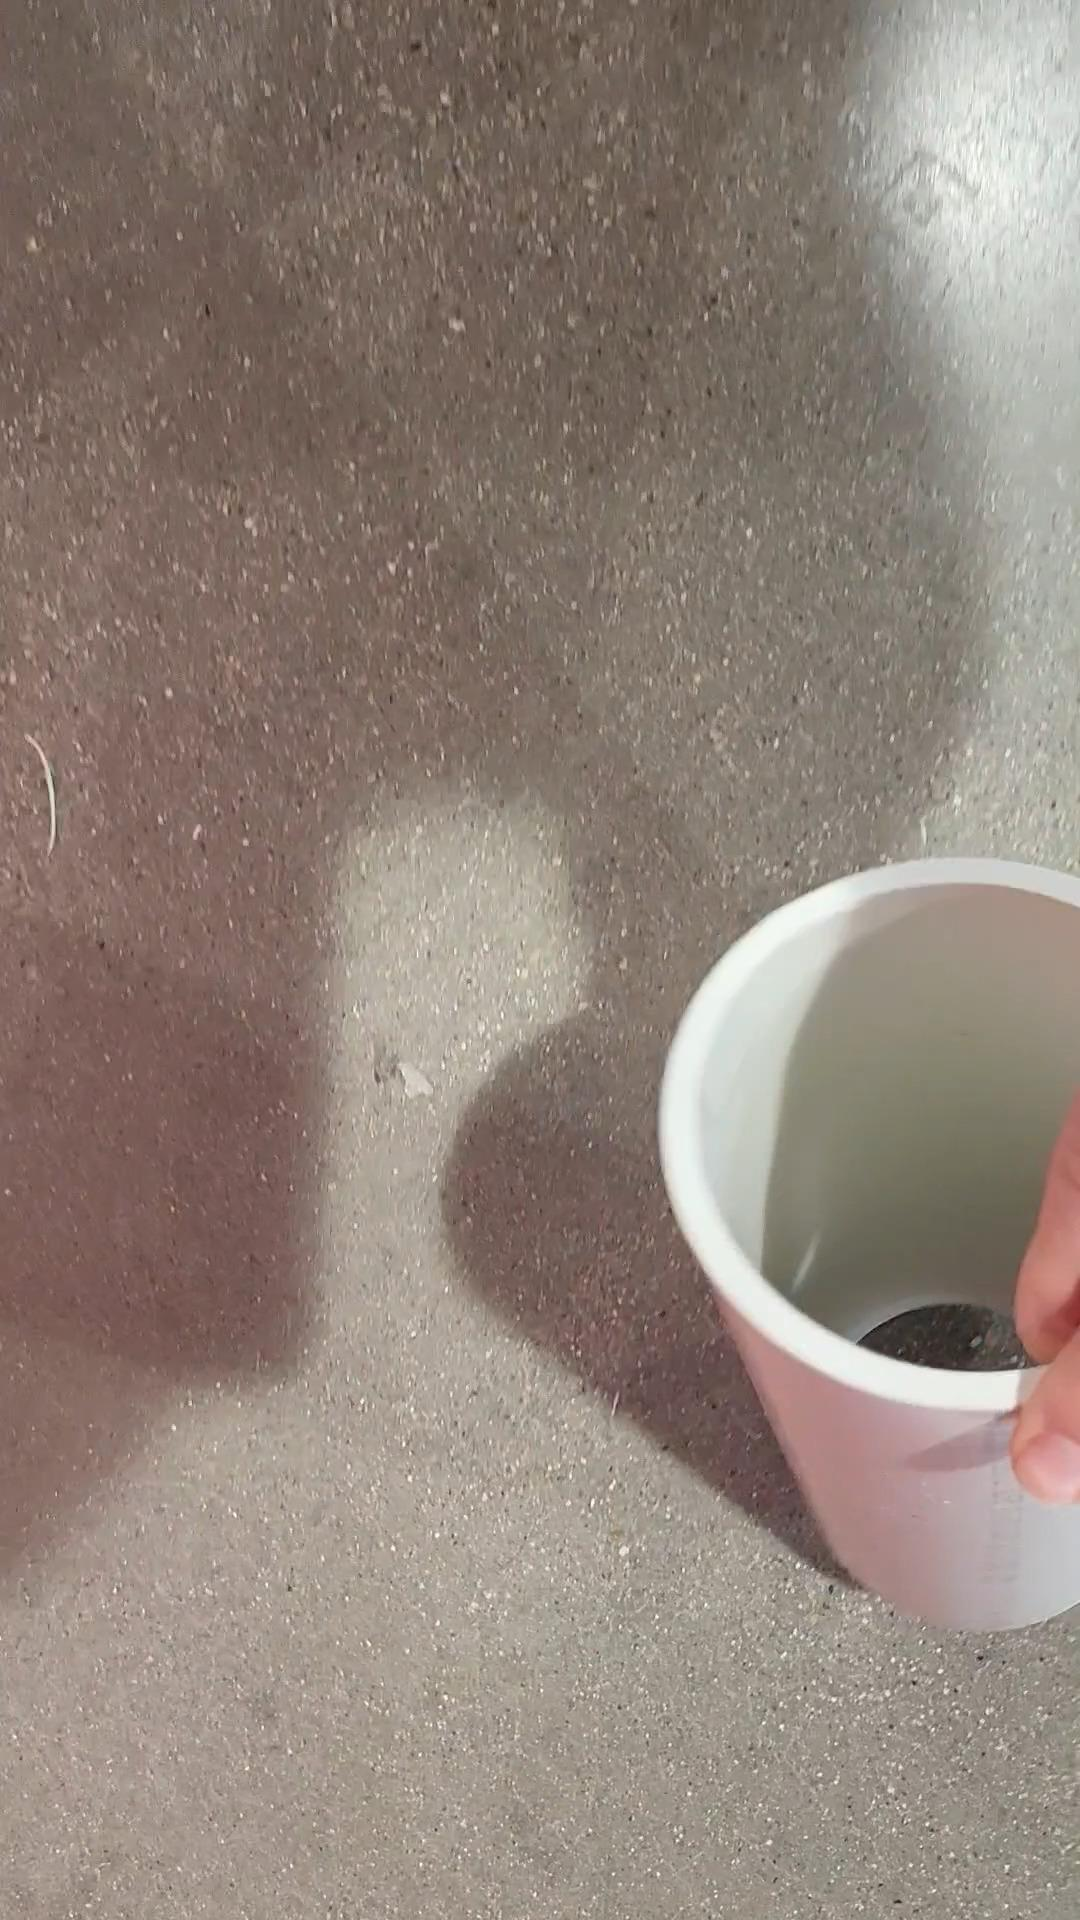coral: (667, 853, 1080, 1631)
